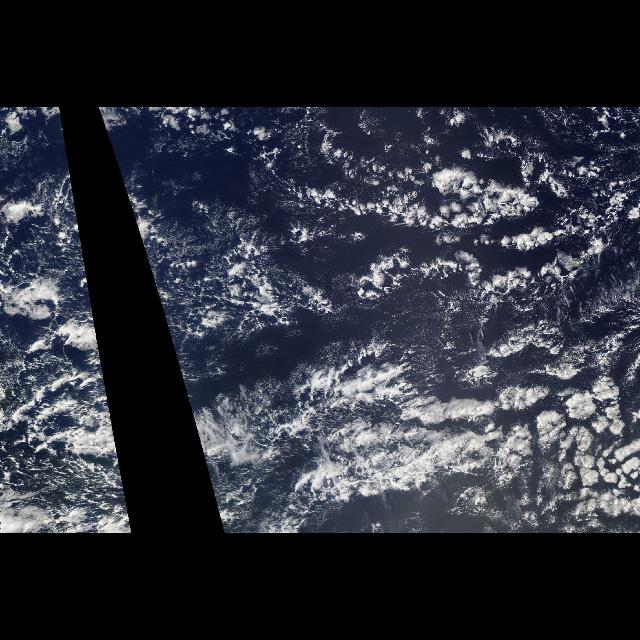Flower: (458, 285, 638, 531)
Gravel: (121, 176, 451, 367), (4, 176, 102, 367)
